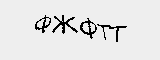Ж: (54, 13, 75, 35)
Т: (95, 22, 111, 41), (110, 26, 126, 43)
Ф: (33, 12, 51, 33), (81, 17, 98, 39)
